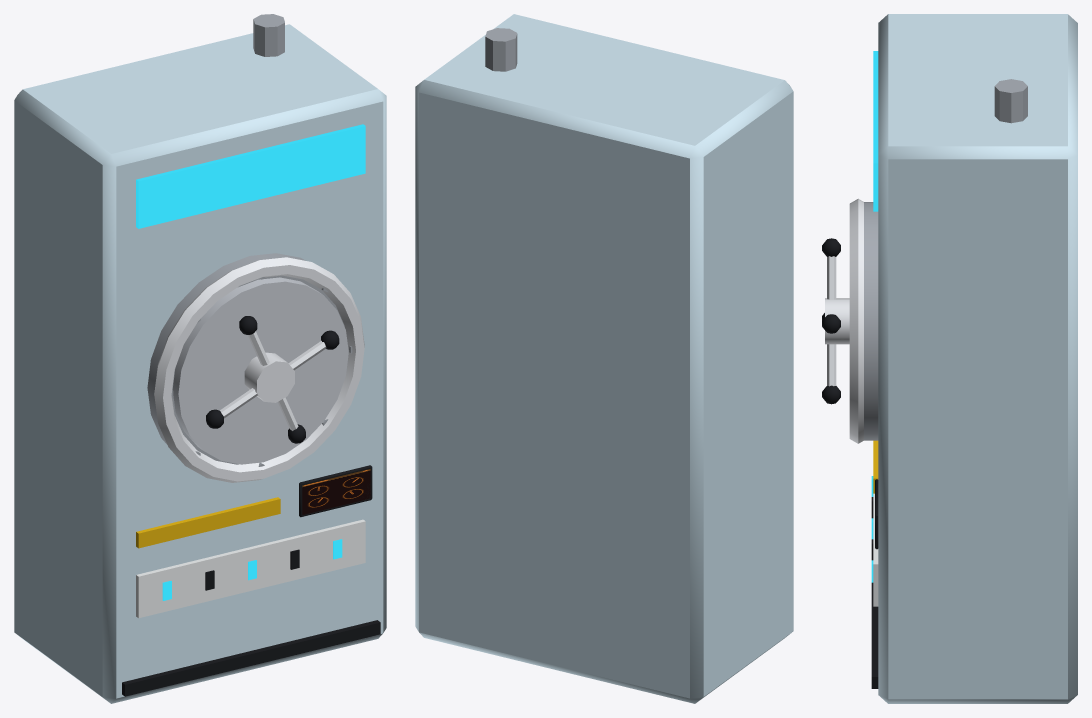
Rendered from specimen_seed_vault.glb.
3 renders of one model, left to right at view 1: azimuth 30°, elevation 25°; view 2: azimuth 150°, elevation 25°; view 3: azimuth 270°, elevation 25°, orthographic.
Visible parts, largest first — view 1: specimen_seed_vault; view 2: specimen_seed_vault; view 3: specimen_seed_vault.
Part boxes in pixels (x1,y1,x2,y2): specimen_seed_vault: [14, 14, 386, 703]; specimen_seed_vault: [415, 14, 793, 703]; specimen_seed_vault: [822, 14, 1077, 703].
Bounding box in the file's own units: 1 × 1.97 × 0.7685.
9 materials, 1 textured.
